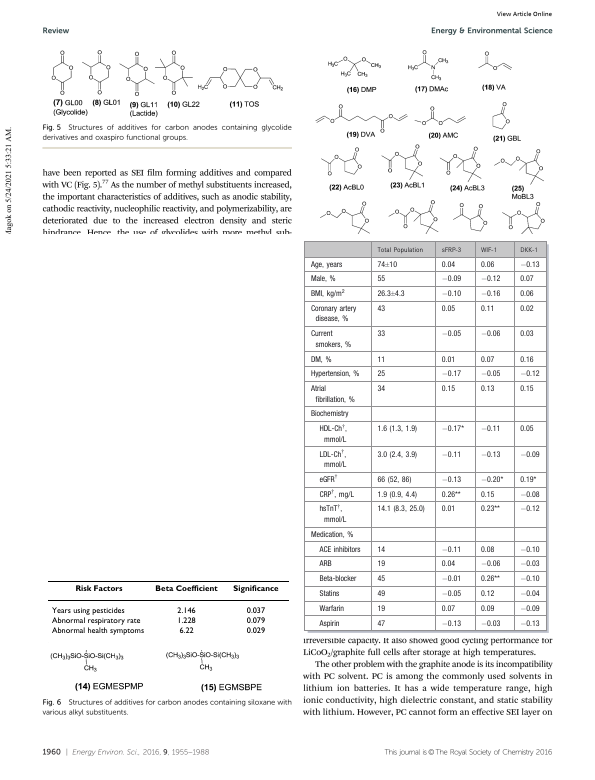bordered: (304, 239, 546, 630)
borderless: (46, 579, 290, 644)
cell: (51, 626, 145, 636), (309, 305, 357, 324), (51, 616, 141, 626), (309, 385, 355, 404), (309, 330, 352, 350), (51, 606, 125, 615), (318, 423, 347, 445), (318, 449, 347, 470), (318, 504, 347, 525), (154, 584, 218, 593), (309, 370, 360, 379), (74, 584, 123, 593), (376, 505, 425, 514), (232, 584, 279, 593), (309, 530, 354, 539), (309, 288, 345, 299), (318, 545, 361, 554), (376, 425, 418, 434), (376, 450, 418, 459), (376, 490, 418, 499), (376, 247, 423, 255), (309, 410, 349, 419), (376, 475, 412, 485), (318, 489, 354, 499), (318, 575, 357, 584), (309, 260, 343, 269), (376, 290, 405, 299), (479, 475, 504, 485), (309, 275, 336, 284), (318, 604, 345, 613), (318, 474, 338, 485), (440, 475, 462, 485), (318, 589, 340, 599), (440, 589, 462, 599), (440, 425, 464, 434), (245, 616, 266, 626), (245, 626, 266, 636), (519, 589, 540, 599), (309, 355, 332, 364), (176, 616, 196, 626), (376, 260, 398, 269), (440, 275, 462, 284), (479, 275, 501, 284), (440, 290, 462, 299), (479, 290, 501, 299), (440, 330, 462, 339), (479, 330, 501, 339), (440, 370, 462, 379), (479, 370, 501, 379), (479, 425, 501, 434), (440, 450, 462, 459), (479, 450, 501, 459), (440, 545, 462, 554), (479, 560, 501, 569), (440, 575, 462, 584), (318, 619, 340, 628), (440, 619, 462, 628), (479, 619, 501, 628), (245, 606, 266, 615), (519, 260, 540, 269), (519, 370, 540, 379), (519, 450, 540, 459), (440, 490, 461, 499), (519, 490, 540, 499), (479, 505, 500, 514), (519, 505, 540, 514), (519, 545, 540, 554), (519, 560, 540, 569), (479, 575, 500, 584), (519, 575, 540, 584), (519, 604, 540, 613), (519, 619, 540, 628), (176, 606, 196, 615), (519, 475, 537, 485), (440, 247, 462, 255), (178, 626, 194, 636), (479, 589, 495, 599), (519, 247, 538, 255), (479, 247, 497, 255), (440, 260, 456, 269), (479, 260, 495, 269), (440, 305, 456, 314), (479, 305, 495, 314), (440, 355, 456, 364), (479, 355, 495, 364), (440, 385, 456, 394), (479, 385, 495, 394), (479, 490, 495, 499), (440, 505, 456, 514), (479, 545, 495, 554), (440, 560, 456, 569), (440, 604, 456, 613), (479, 604, 495, 613), (519, 275, 534, 284), (519, 290, 534, 299), (519, 305, 534, 314), (519, 330, 534, 339), (519, 355, 534, 364), (519, 385, 534, 394), (519, 425, 534, 434), (318, 560, 332, 569), (376, 589, 386, 599), (376, 275, 386, 284), (376, 305, 386, 314), (376, 330, 386, 339), (376, 355, 386, 364), (376, 370, 386, 379), (376, 385, 386, 394), (376, 545, 386, 554), (376, 560, 386, 569), (376, 575, 386, 584), (376, 604, 386, 613), (376, 619, 386, 628)
